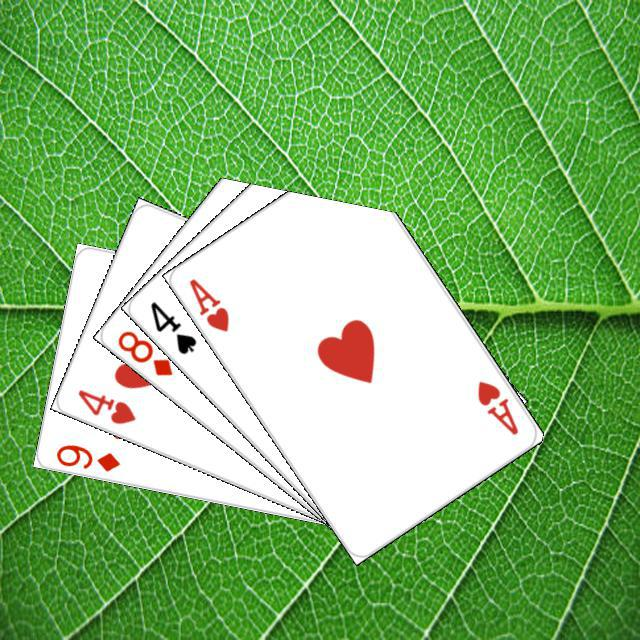4h: (73, 384, 138, 426)
4s: (145, 296, 199, 356)
8d: (112, 325, 175, 378)
9d: (51, 439, 122, 474)
Ah: (183, 273, 231, 334), (472, 376, 520, 437)
